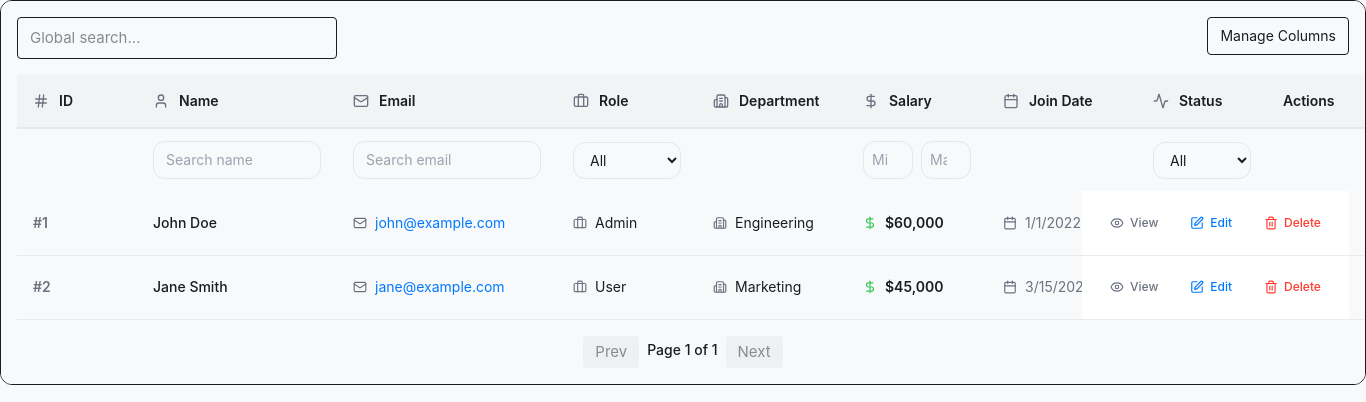
Test: DataGrid › filters data using search
The width and height of the screenshot is (1366, 402).
Expected: the text "John Doe" is shown, [153,214,217,231]
Type "Jane" into the field with placeholder "Global search..." at (177, 38), box [17,17,337,59]
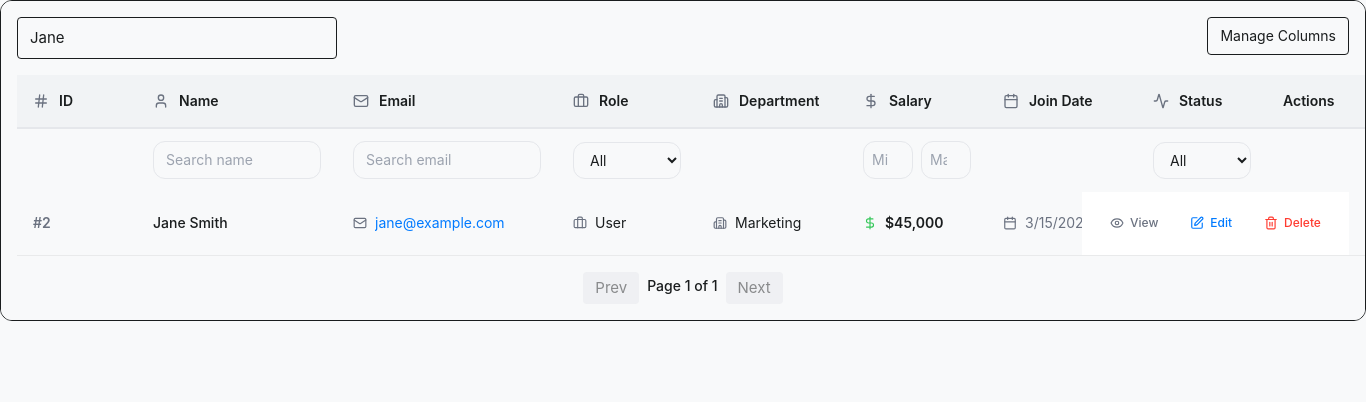
Expected: the text "Jane Smith" is shown, [153,214,228,231]
Expected: the text "John Doe" is gone
